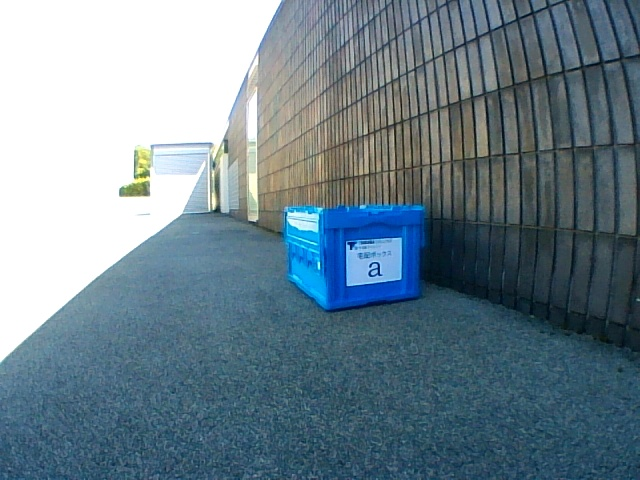blue_box: (285, 206, 423, 311)
tag_a: (353, 242, 397, 279)
